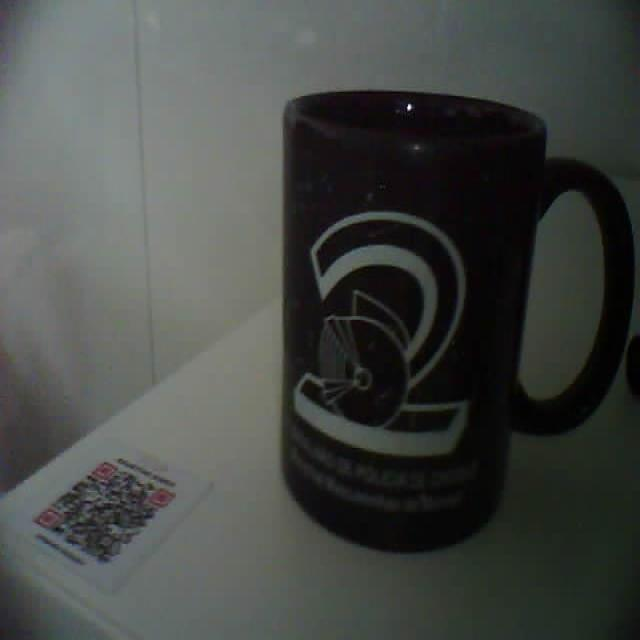caneca: (281, 91, 632, 548)
